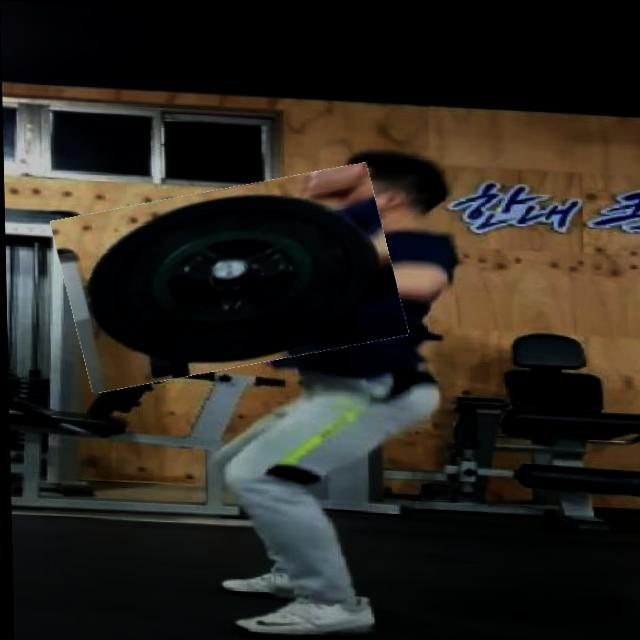barbell: (57, 166, 402, 387)
